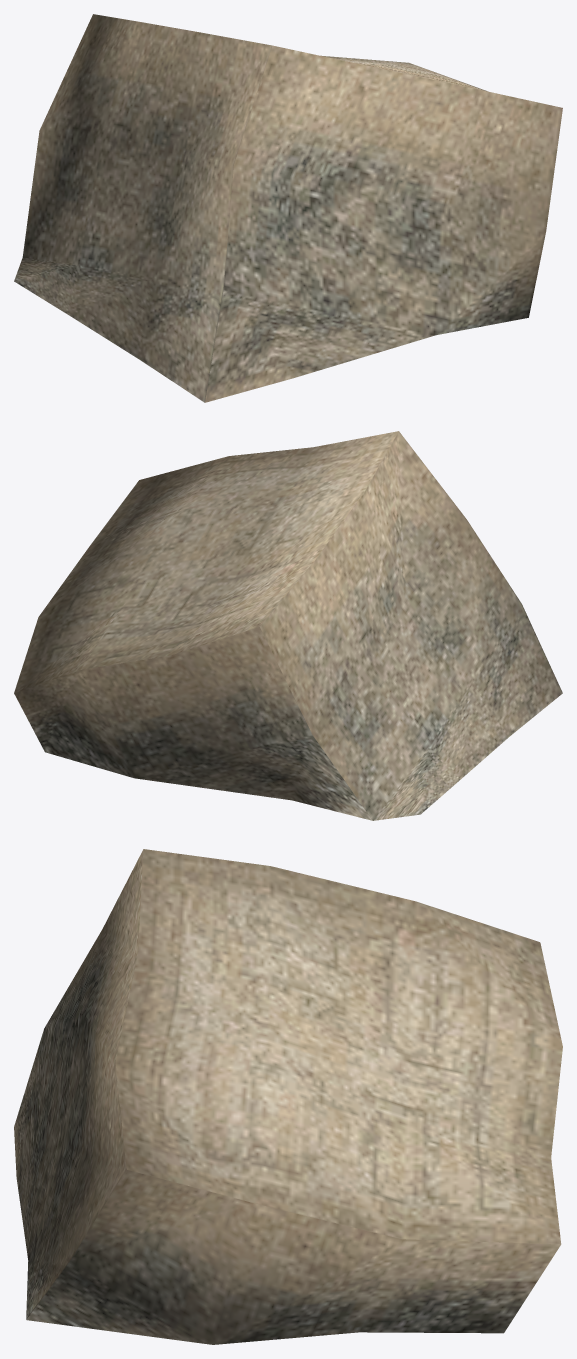
The model's file is desert-bigstone03.fbx.
3 views of the same model, one above another, from view 1: azimuth 30°, elevation 25°; view 2: azimuth 150°, elevation 25°; view 3: azimuth 270°, elevation 25° (orthographic). The views are drawn at different scales.
Visible parts, largest first — view 1: desert-bigstone; view 2: desert-bigstone; view 3: desert-bigstone.
Part boxes in pixels (box(x1,y1,x2,y2)): desert-bigstone: box(14, 14, 562, 402); desert-bigstone: box(14, 431, 562, 820); desert-bigstone: box(14, 849, 562, 1344).
Bounding box in the file's own units: 4.16 × 2.71 × 3.85.
